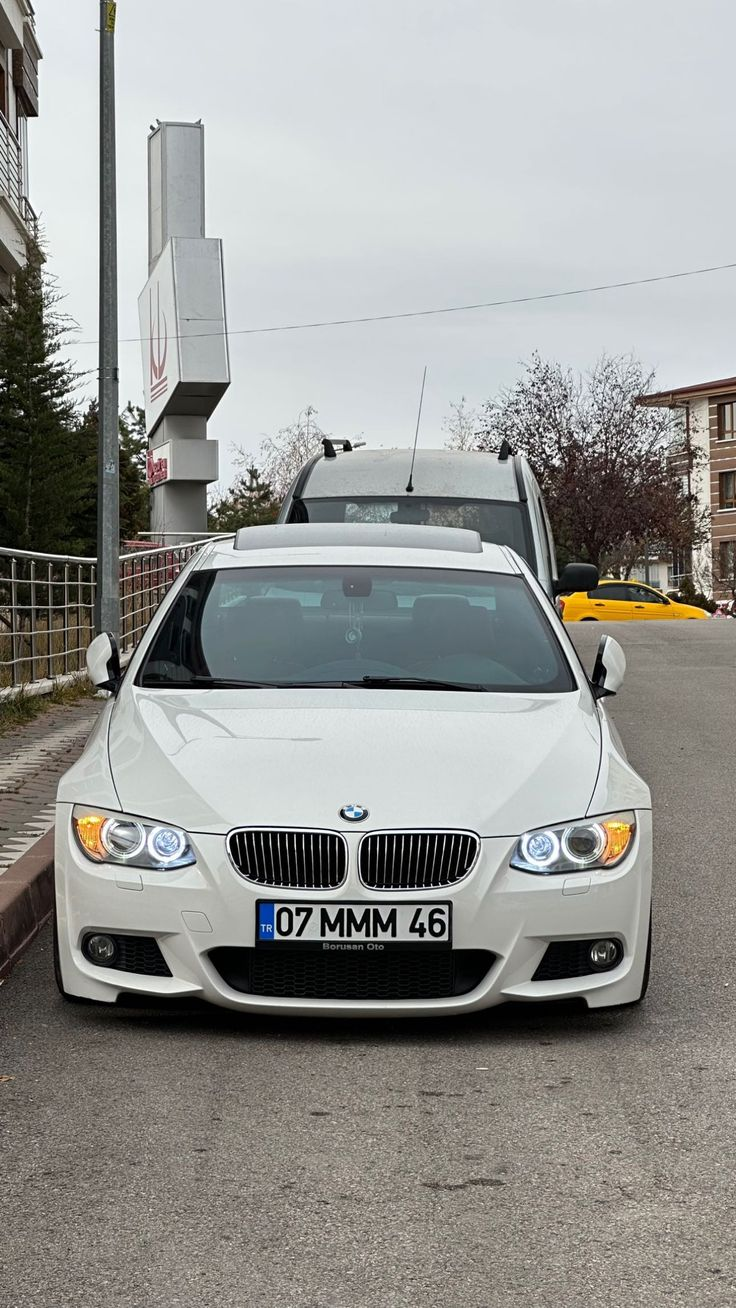plate: (259, 904, 455, 946)
